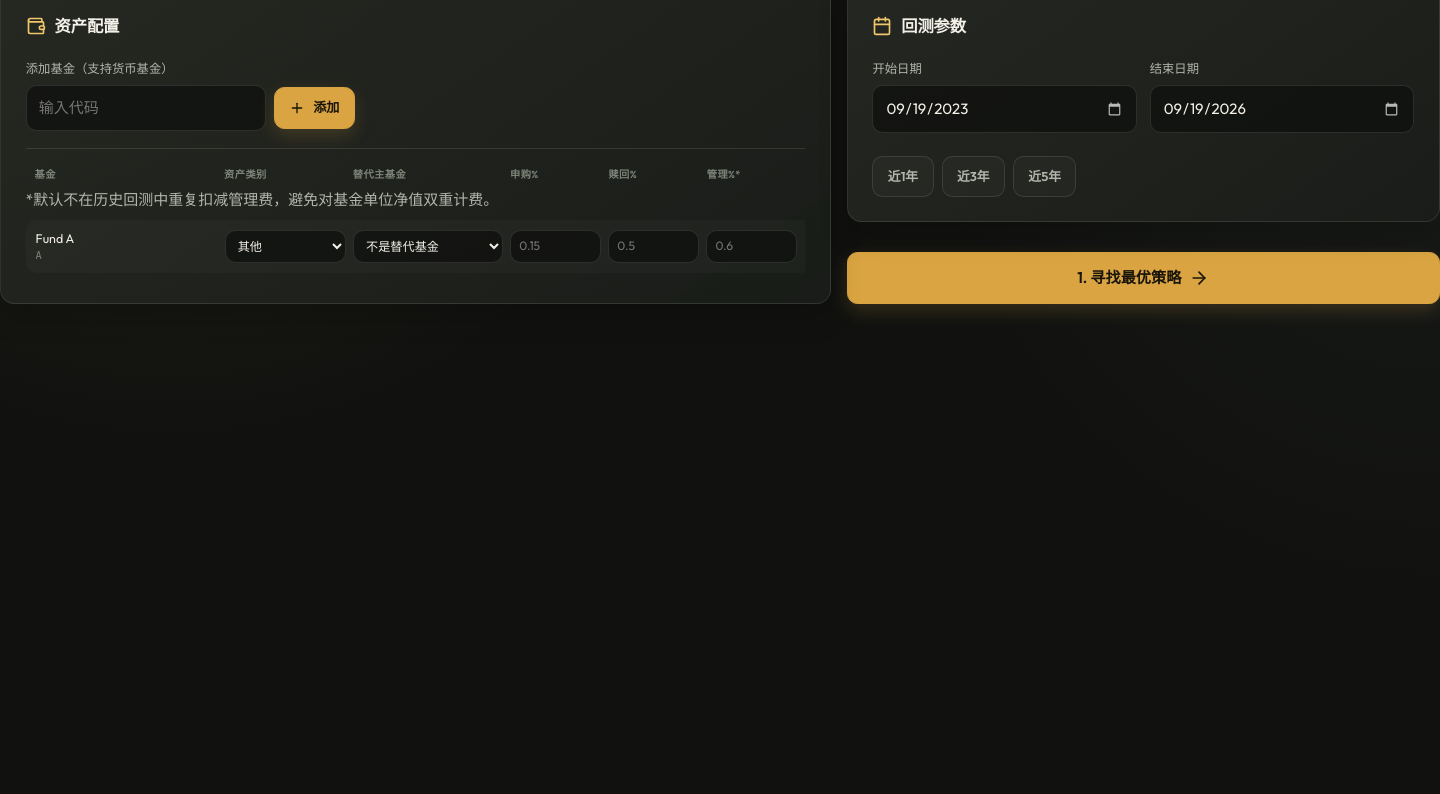
Test case: keeps analysis warnings in a compact expandable methodology section
Click the button "1. 寻找最优策略" at x=1143, y=278, box x1=847 y1=252 x2=1439 y2=304
(page scrolled)
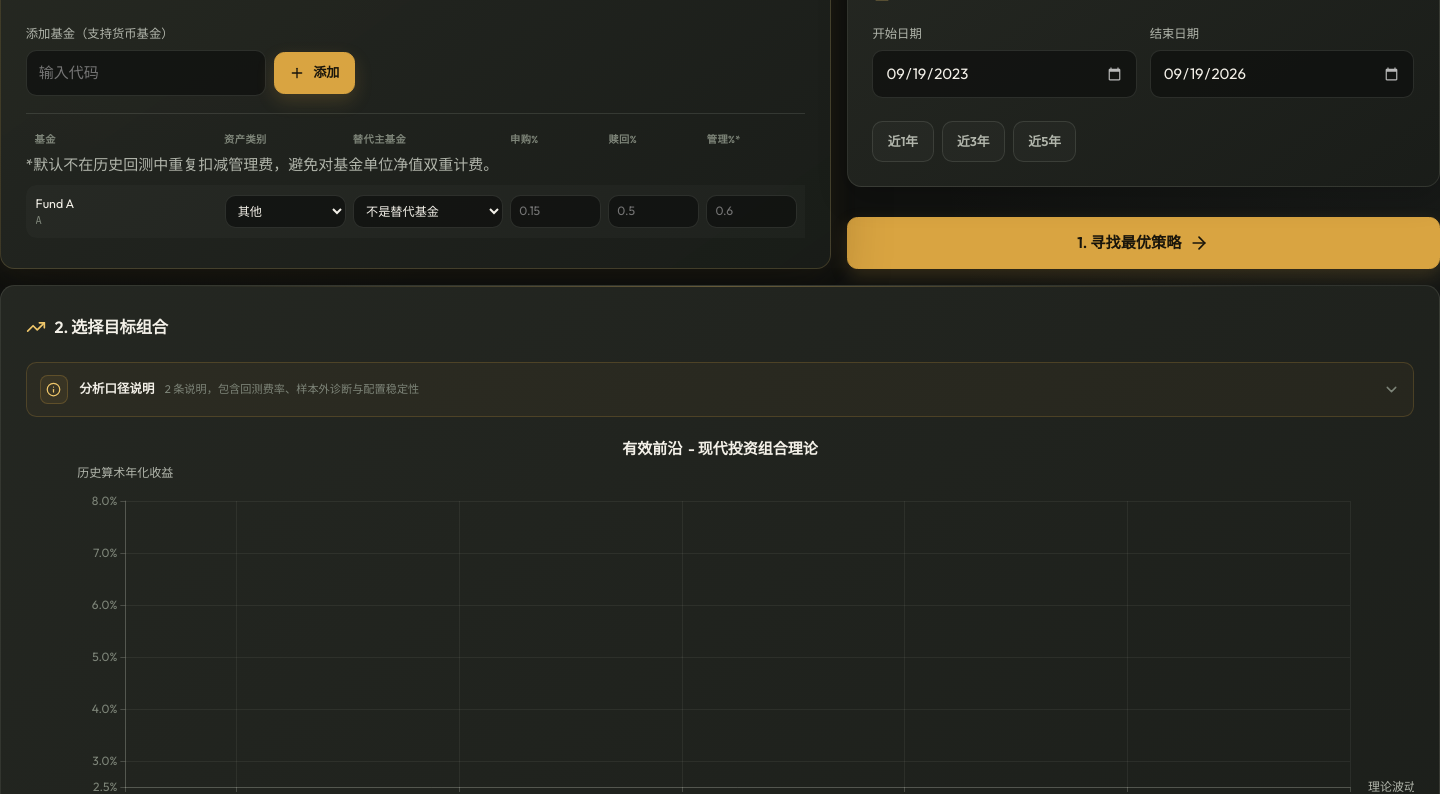
Now the text "分析口径说明" shows "2 条说明", box x1=165 y1=382 x2=419 y2=396
